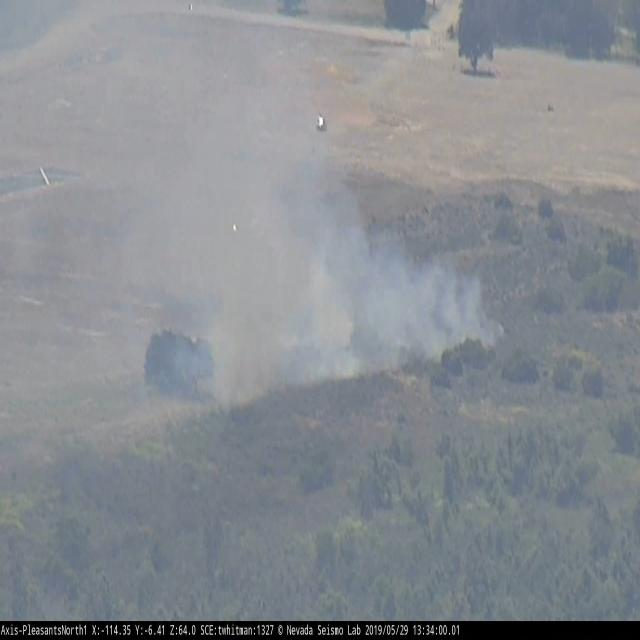smoke: (232, 162, 505, 371)
